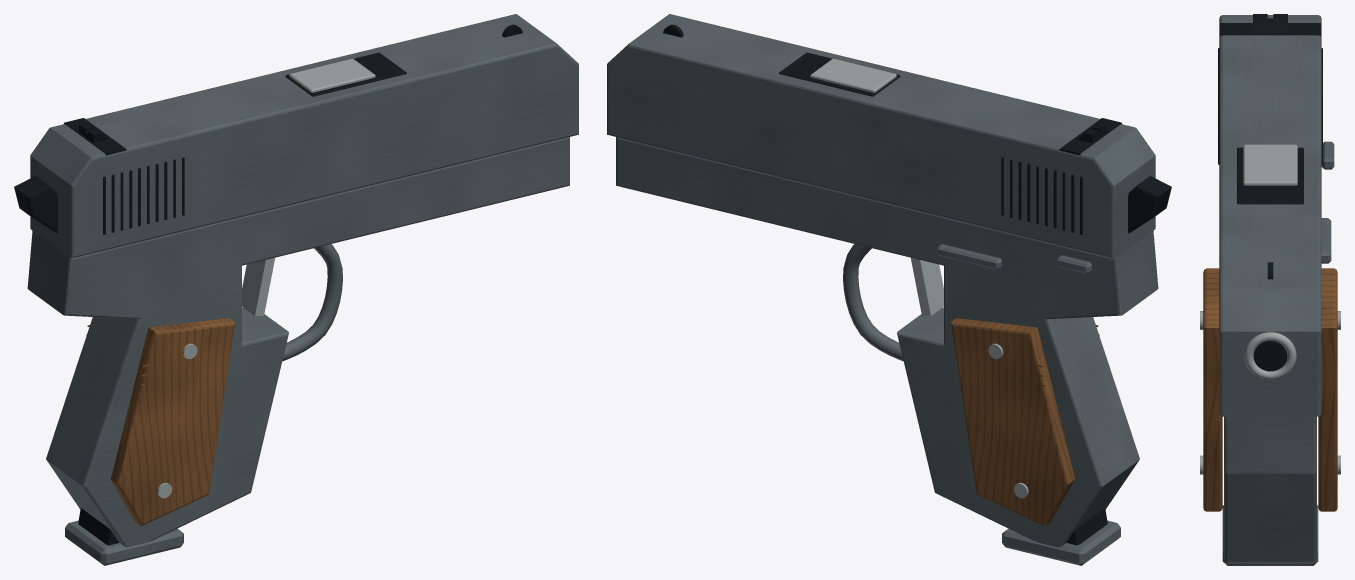
Rendered from first-pistol-v6.glb.
3 views of the same model, side by side, from view 1: azimuth 30°, elevation 25°; view 2: azimuth 150°, elevation 25°; view 3: azimuth 270°, elevation 25° (orthographic). The views are drawn at different scales.
Visible parts, largest first — view 1: Mesh_SlideHousing, Mesh_Frame, Mesh_WalnutPanel_R, Mesh_MagazineBase, Mesh_TriggerGuard, Mesh_BarrelHood, Mesh_Hammer, Mesh_Trigger, Mesh_EjectionInset, Mesh_RearSight; view 2: Mesh_SlideHousing, Mesh_Frame, Mesh_WalnutPanel_L, Mesh_MagazineBase, Mesh_TriggerGuard, Mesh_BarrelHood, Mesh_Hammer, Mesh_Trigger, Mesh_EjectionInset, Mesh_RearSight, Mesh_SlideStop; view 3: Mesh_SlideHousing, Mesh_Frame, Mesh_WalnutPanel_L, Mesh_WalnutPanel_R, Mesh_BarrelHood, Mesh_EjectionInset, Mesh_RearSight, Mesh_MuzzleRim, Mesh_MuzzleRecess, Mesh_MagazineBase, Mesh_SlideStop, Mesh_Safety.
Boxes of the visible parts, <box> form: Mesh_SlideHousing: <box>30,14,578,258</box>; Mesh_Frame: <box>27,137,569,547</box>; Mesh_WalnutPanel_R: <box>111,318,234,525</box>; Mesh_MagazineBase: <box>65,520,183,565</box>; Mesh_TriggerGuard: <box>282,244,342,361</box>; Mesh_BarrelHood: <box>289,58,375,92</box>; Mesh_Hammer: <box>14,176,57,233</box>; Mesh_Trigger: <box>242,257,274,315</box>; Mesh_EjectionInset: <box>285,52,406,96</box>; Mesh_RearSight: <box>64,118,126,155</box>; Mesh_SlideHousing: <box>607,14,1155,258</box>; Mesh_Frame: <box>616,137,1158,547</box>; Mesh_WalnutPanel_L: <box>951,318,1074,525</box>; Mesh_MagazineBase: <box>1002,520,1120,565</box>; Mesh_TriggerGuard: <box>843,244,903,361</box>; Mesh_BarrelHood: <box>810,58,896,92</box>; Mesh_Hammer: <box>1128,176,1171,233</box>; Mesh_Trigger: <box>911,257,943,315</box>; Mesh_EjectionInset: <box>779,52,900,96</box>; Mesh_RearSight: <box>1059,118,1121,155</box>; Mesh_SlideStop: <box>937,244,1001,269</box>; Mesh_SlideHousing: <box>1219,15,1321,416</box>; Mesh_Frame: <box>1224,416,1316,561</box>; Mesh_WalnutPanel_L: <box>1318,268,1337,511</box>; Mesh_WalnutPanel_R: <box>1203,268,1222,511</box>; Mesh_BarrelHood: <box>1243,144,1297,185</box>; Mesh_EjectionInset: <box>1237,147,1303,204</box>; Mesh_RearSight: <box>1220,14,1320,36</box>; Mesh_MuzzleRim: <box>1244,332,1296,379</box>; Mesh_MuzzleRecess: <box>1253,341,1287,371</box>; Mesh_MagazineBase: <box>1222,505,1318,565</box>; Mesh_SlideStop: <box>1321,218,1331,263</box>; Mesh_Safety: <box>1321,141,1334,169</box>.
Size of the model in its own units: 0.2347 by 0.1751 by 0.044.
4 materials, 2 textured.
